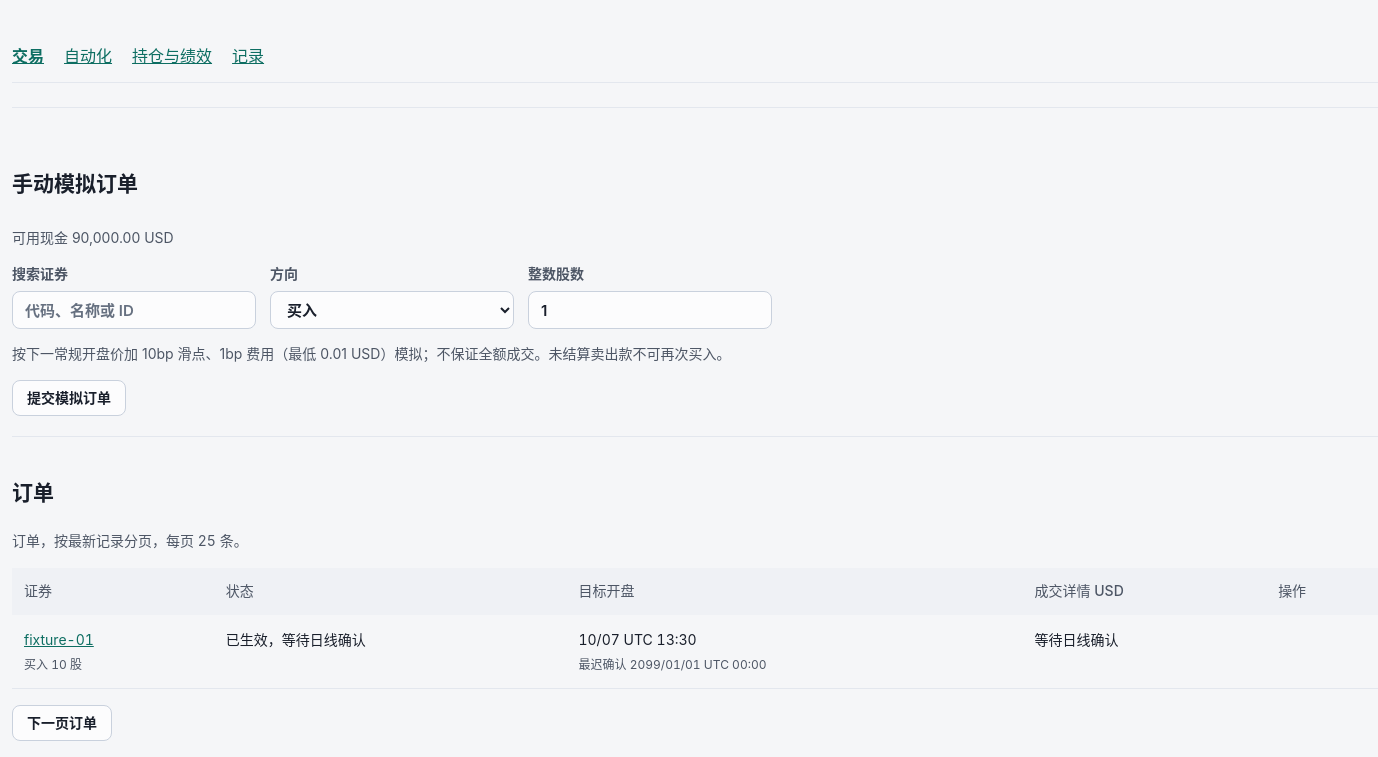
it: stops polling a paged table after leaving its first page
(page scrolled)
Expected: the link "fixture-01" is shown, [24,631,94,648]
What coordinates should you click on to do the following:
click the button "下一页订单"
I would click on:
 (62, 723)
Its box is [12,705,112,741].
Wait 15000 ms
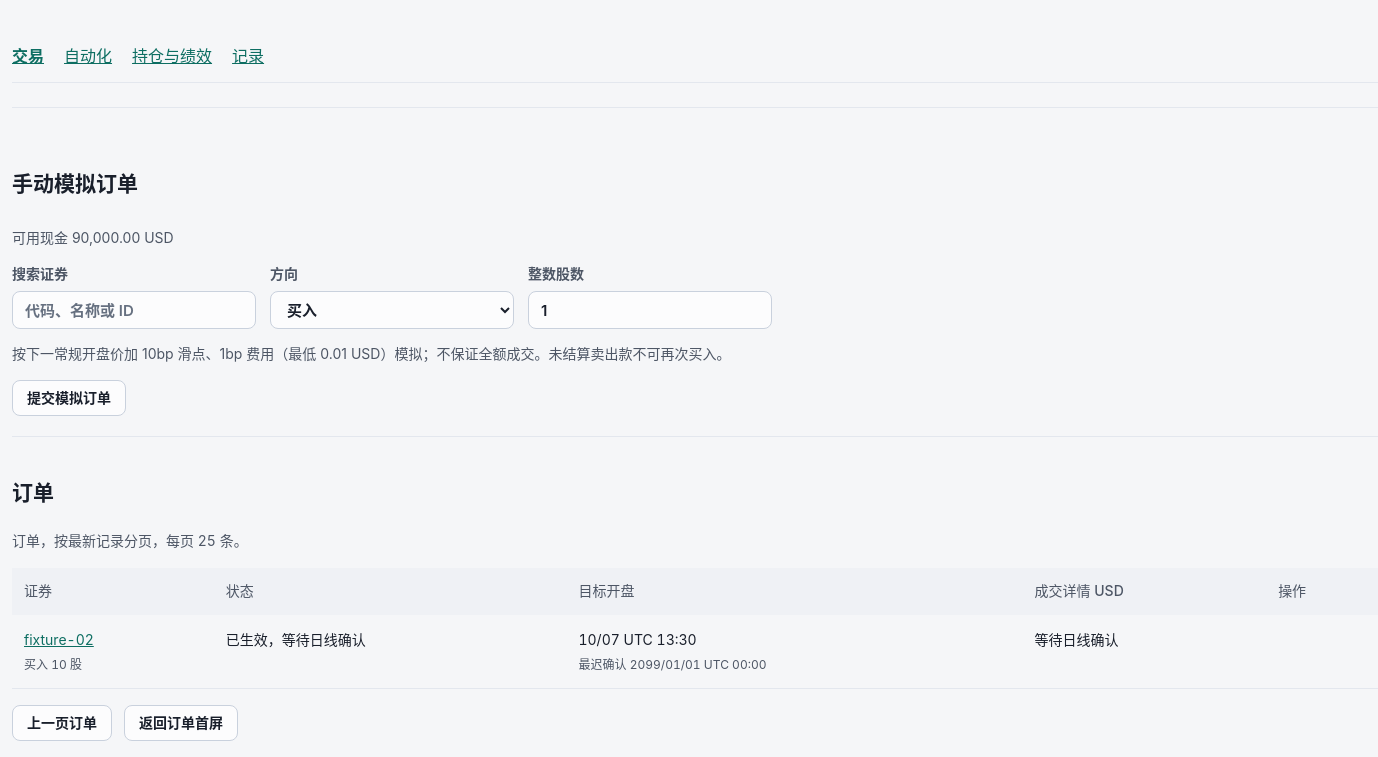
Expected: the link "fixture-02" is shown, [24,631,94,648]
